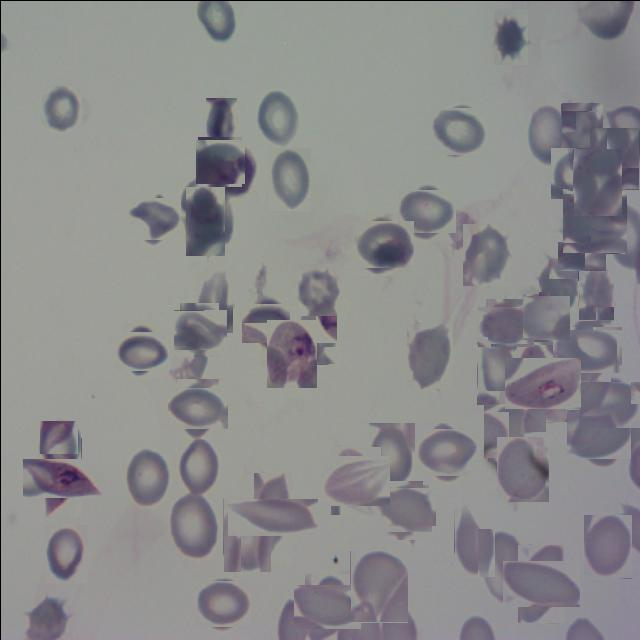leukocyte: (349, 550, 407, 622), (240, 484, 304, 548), (562, 188, 626, 252), (509, 552, 571, 614), (166, 488, 218, 560), (222, 498, 270, 572), (485, 400, 544, 460), (326, 450, 384, 509), (477, 528, 523, 602), (496, 436, 548, 501), (572, 148, 621, 216), (558, 321, 616, 378), (569, 405, 626, 462), (418, 424, 474, 480), (582, 514, 631, 578), (298, 578, 354, 634), (588, 127, 638, 189), (368, 422, 414, 488), (406, 323, 452, 388), (583, 377, 638, 431), (524, 100, 570, 164), (355, 217, 410, 270), (462, 223, 509, 285), (183, 186, 224, 256), (124, 446, 170, 508), (266, 147, 310, 211), (294, 298, 336, 364), (432, 104, 484, 157), (379, 484, 432, 536), (176, 434, 219, 498), (453, 509, 494, 576), (195, 577, 247, 629), (255, 86, 300, 146), (401, 185, 452, 237), (172, 382, 222, 433), (44, 524, 87, 582), (481, 302, 530, 351), (128, 193, 176, 243), (560, 102, 602, 157), (118, 326, 166, 374), (476, 341, 512, 404), (550, 147, 594, 198), (537, 258, 577, 314), (297, 263, 340, 315), (198, 270, 234, 332), (195, 138, 242, 185), (176, 306, 223, 352), (38, 420, 80, 471), (522, 294, 568, 340), (41, 80, 81, 132), (244, 301, 288, 345), (577, 267, 613, 320), (493, 9, 527, 64), (205, 97, 236, 147), (562, 236, 600, 275)
red blood cell: (509, 350, 574, 414)
schizont: (32, 448, 91, 507), (266, 319, 316, 387)
